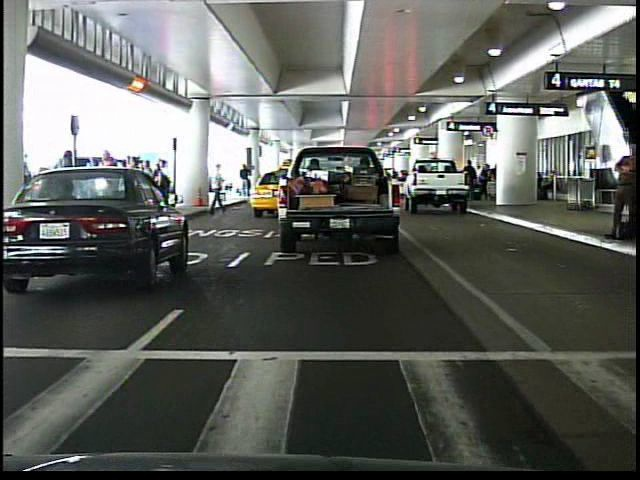person: (93, 148, 121, 227), (206, 158, 229, 216), (238, 162, 256, 196)
